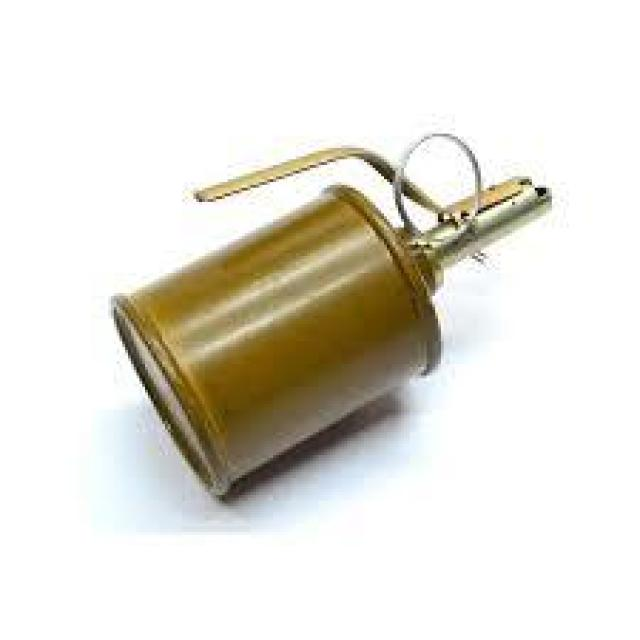grenade: (106, 140, 551, 502)
